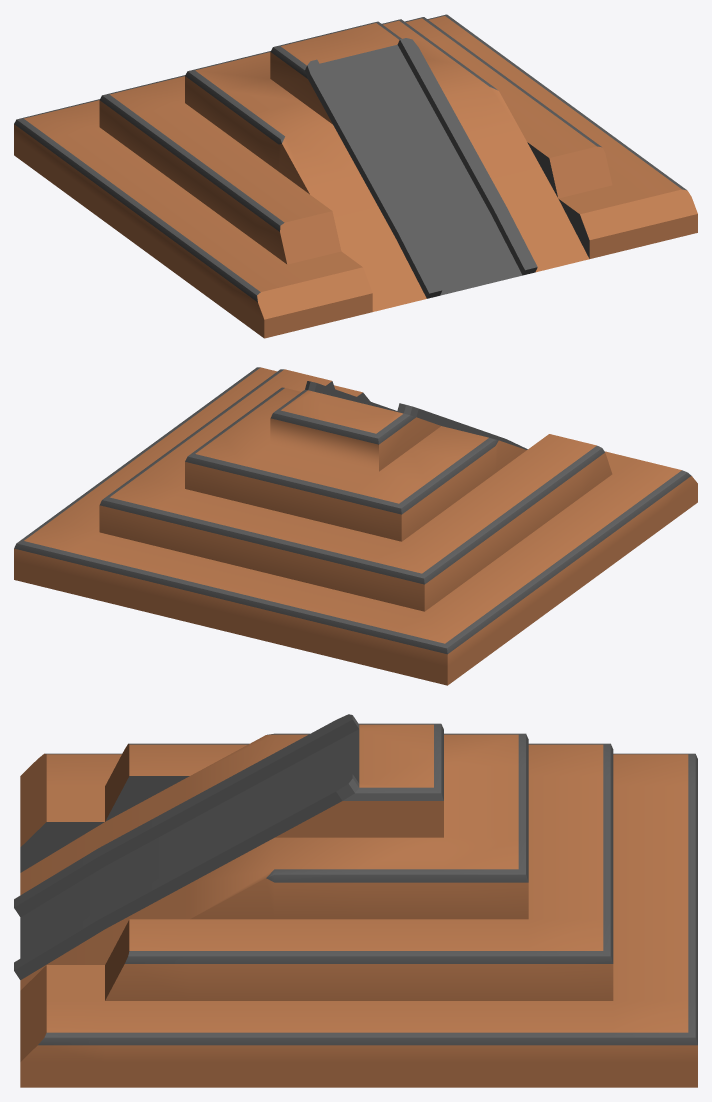
Rendered from Temple 3.fbx.
3 views of the same model, one above another, from view 1: azimuth 30°, elevation 25°; view 2: azimuth 150°, elevation 25°; view 3: azimuth 270°, elevation 25° (orthographic). The views are drawn at different scales.
Visible parts, largest first — view 1: Temple 3; view 2: Temple 3; view 3: Temple 3.
Boxes of the visible parts, <box> form: Temple 3: <box>14,14,697,338</box>; Temple 3: <box>14,367,697,685</box>; Temple 3: <box>14,714,697,1087</box>.
Bounding box in the file's own units: 70 × 22.57 × 70.67.
3 materials, 2 textured.
